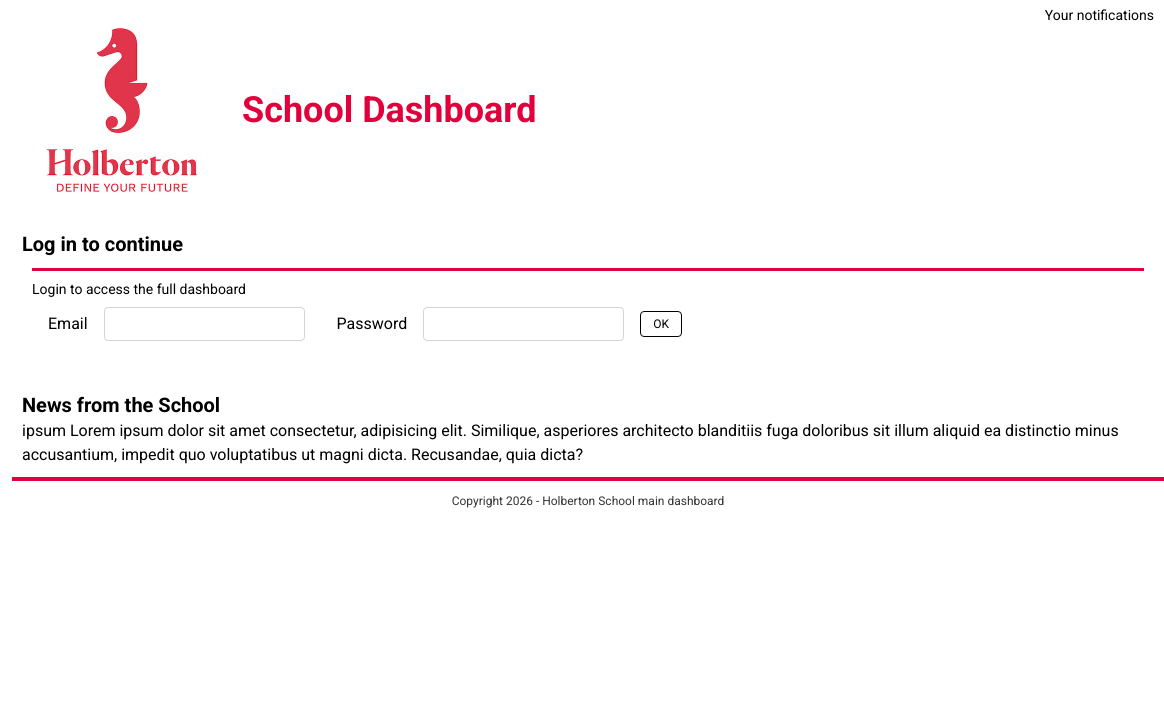
Test: App (Task 1) - lifecycle & keyboard › pressing Ctrl+H resets to logged-out state
The width and height of the screenshot is (1164, 720).
Type "test@example.com" into the field labelled "Email".
click(204, 324); type("test@example.com")  # box [104,307,305,341]
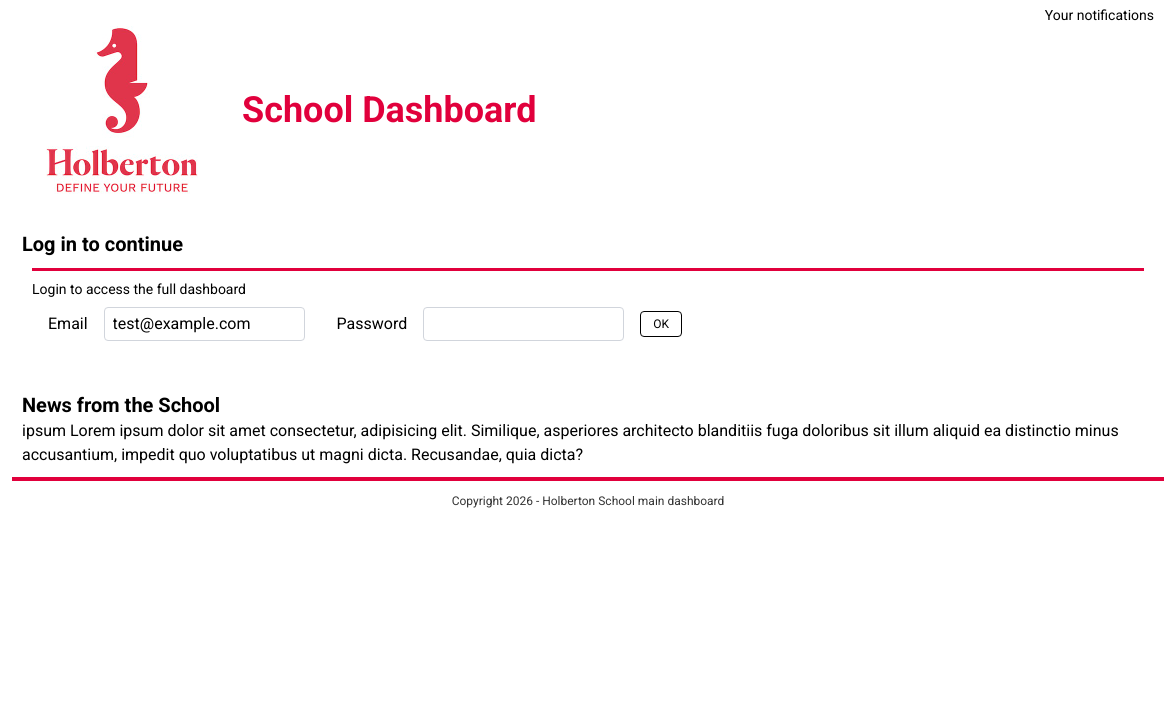
Type "password123" into the password field labelled "Password".
click(524, 324); type("password123")  # box [423,307,624,341]
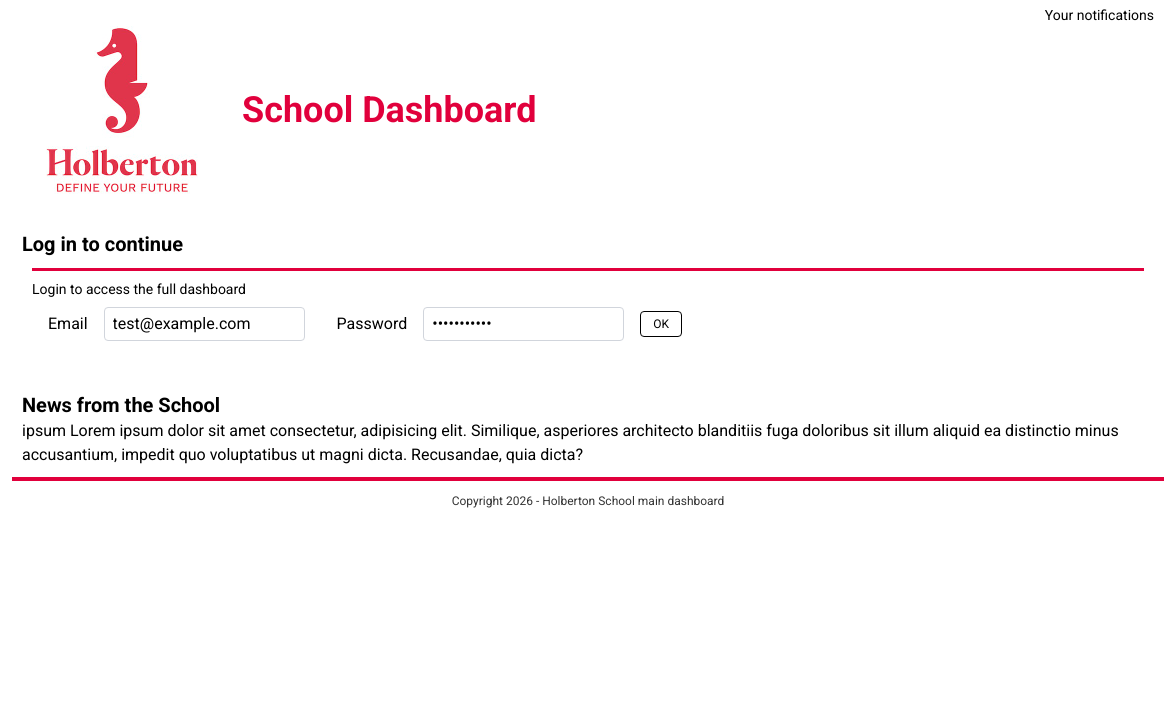
Click the button "OK".
click(661, 324)  # box [640,311,682,337]
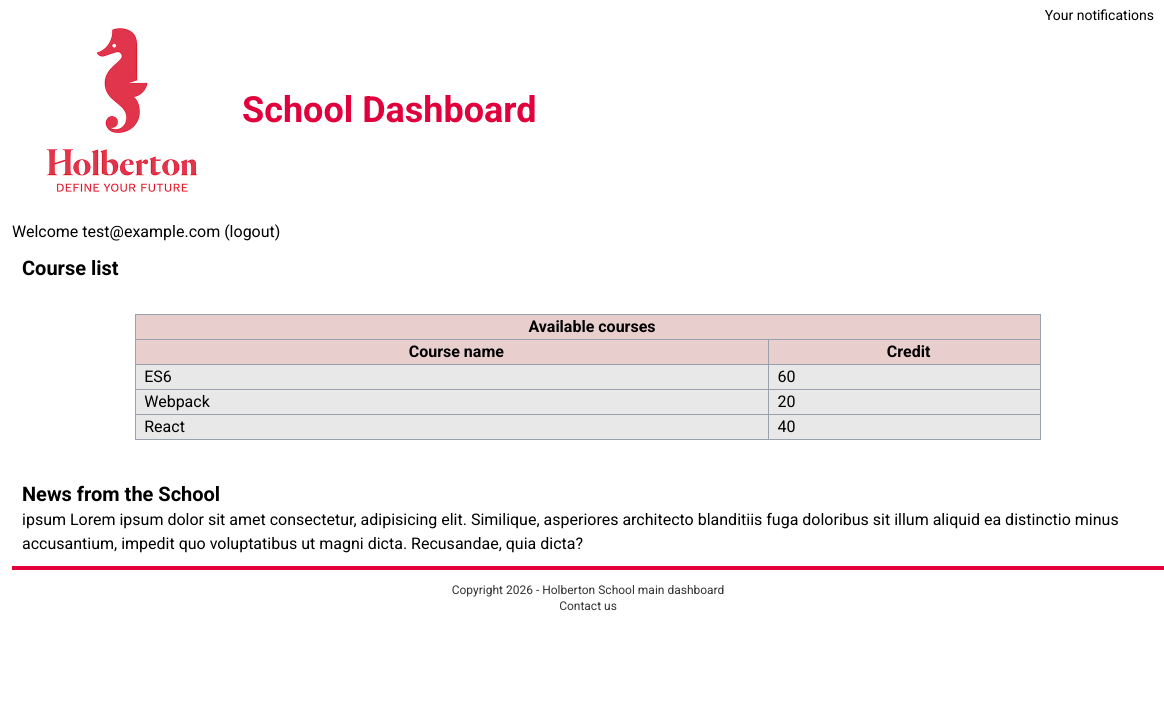
Press h
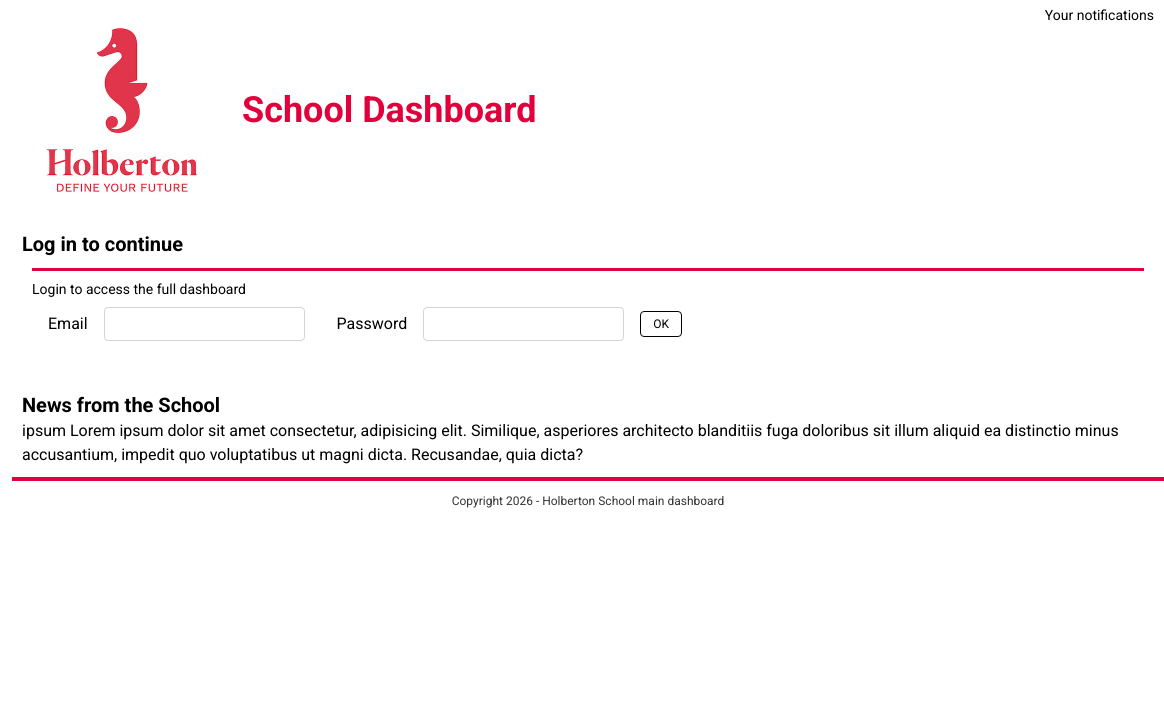
Expected: the field labelled "Email" is shown, [104,307,305,341]
